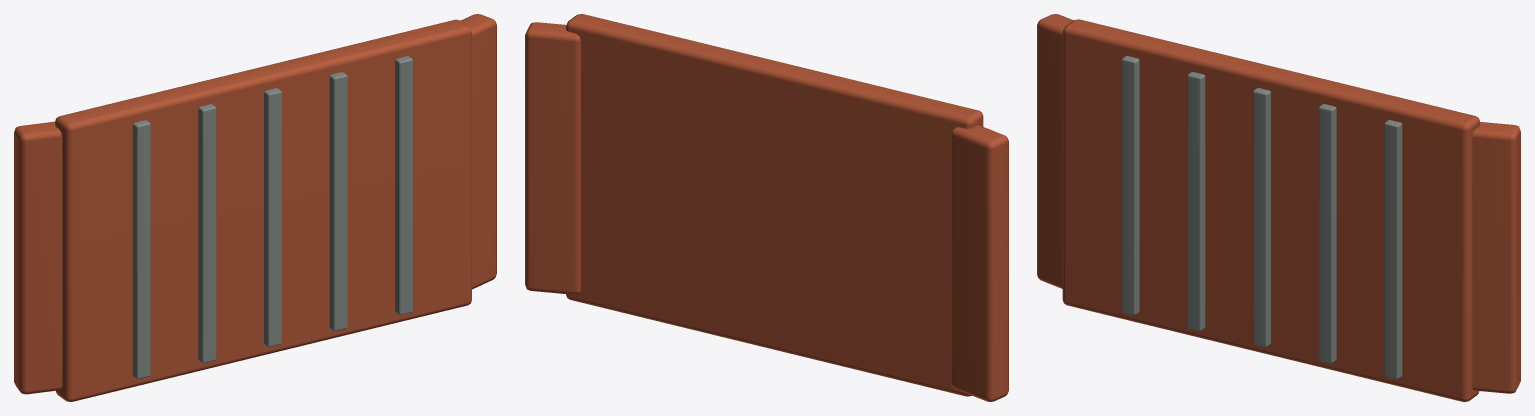
The model's file is steel_fragment.glb.
3 views of the same model, side by side, from view 1: azimuth 30°, elevation 25°; view 2: azimuth 150°, elevation 25°; view 3: azimuth 330°, elevation 25° (orthographic).
Parts seen in each view (by area): view 1: Bent cladding centre, Bent edge, Bent edge.001, Fold, Fold.001, Fold.003, Fold.002, Fold.004; view 2: Bent cladding centre, Bent edge, Bent edge.001; view 3: Bent cladding centre, Bent edge.001, Bent edge, Fold.004, Fold.001, Fold.003, Fold, Fold.002.
Part boxes in pixels (bbox=[...]): Bent cladding centre: bbox=[55, 19, 471, 401]; Bent edge: bbox=[14, 121, 62, 394]; Bent edge.001: bbox=[461, 14, 496, 289]; Fold: bbox=[132, 120, 150, 379]; Fold.001: bbox=[198, 104, 216, 363]; Fold.003: bbox=[329, 72, 347, 331]; Fold.002: bbox=[264, 88, 281, 347]; Fold.004: bbox=[395, 56, 412, 315]; Bent cladding centre: bbox=[566, 14, 983, 396]; Bent edge: bbox=[951, 125, 1008, 401]; Bent edge.001: bbox=[525, 22, 580, 294]; Bent cladding centre: bbox=[1062, 19, 1479, 401]; Bent edge.001: bbox=[1472, 122, 1520, 393]; Bent edge: bbox=[1037, 14, 1073, 288]; Fold.004: bbox=[1384, 120, 1402, 379]; Fold.001: bbox=[1187, 72, 1205, 331]; Fold.003: bbox=[1318, 104, 1336, 363]; Fold: bbox=[1121, 56, 1139, 315]; Fold.002: bbox=[1253, 88, 1270, 347].
Size of the model in its own units: 2.18 by 1.22 by 0.2346.
